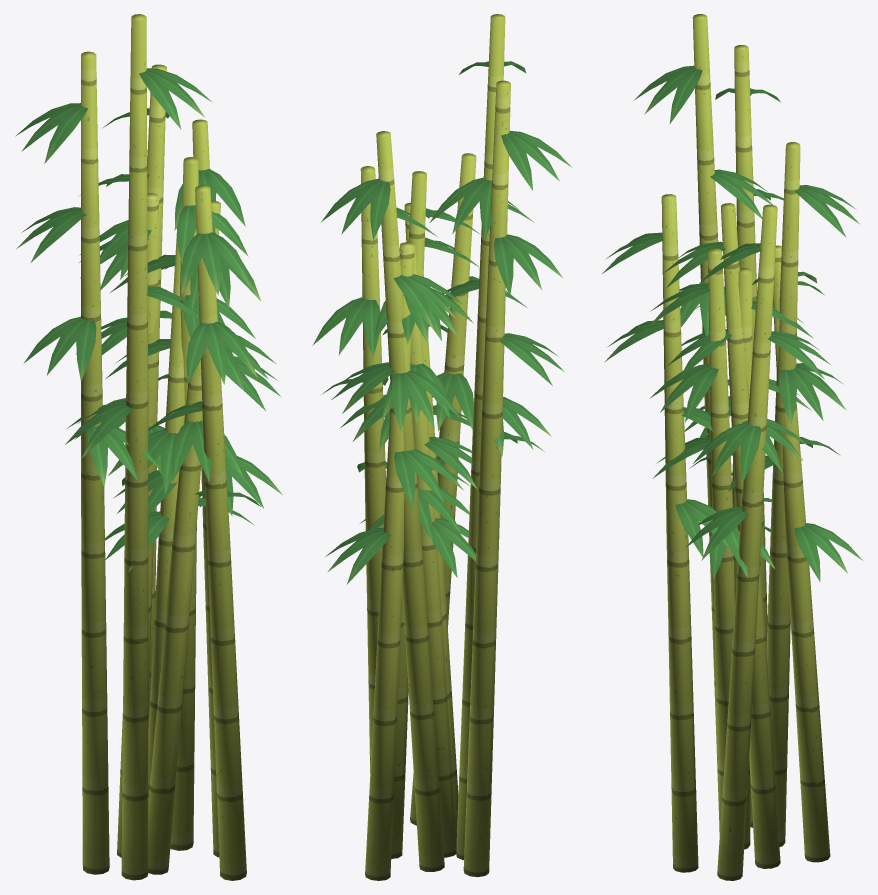
Rendered from bamboo_clump.glb.
3 renders of one model, left to right at view 1: azimuth 30°, elevation 25°; view 2: azimuth 150°, elevation 25°; view 3: azimuth 270°, elevation 25°, orthographic. The views are drawn at different scales.
Visible parts, largest first — view 1: Bamboo_leaf; view 2: Bamboo_leaf; view 3: Bamboo_leaf.
Boxes of the visible parts, x1,y1,x2,y2 form: Bamboo_leaf: (15, 14, 282, 880); Bamboo_leaf: (312, 14, 572, 880); Bamboo_leaf: (602, 14, 862, 880).
Bounding box in the file's own units: 1.51 × 4.93 × 1.44.
1 material, 1 textured.
